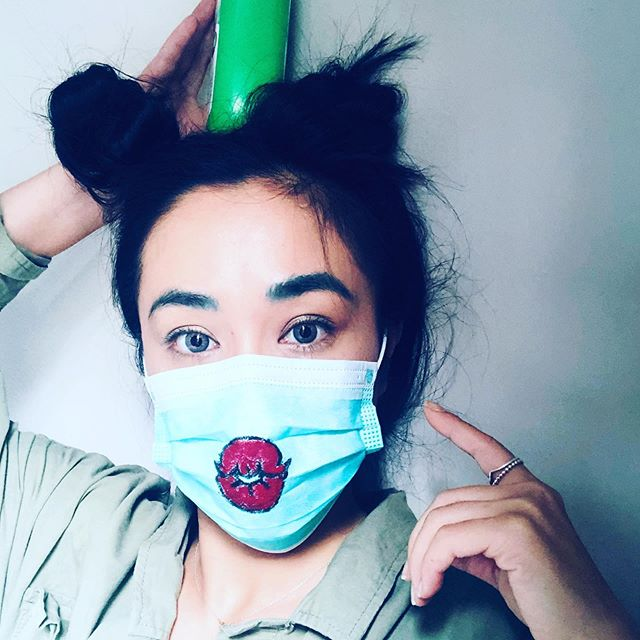surgical: (131, 358, 395, 551)
